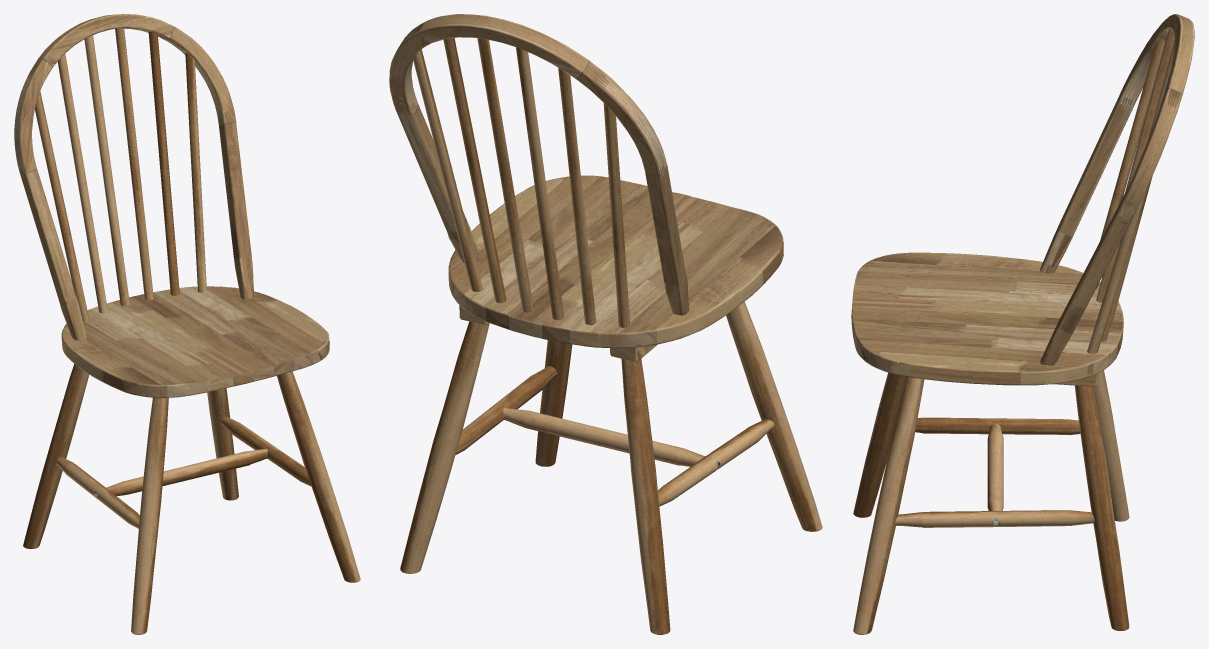
File: skogsta-silla-acacia.glb
The picture shows the model from 3 angles, left to right: view 1: azimuth 30°, elevation 25°; view 2: azimuth 150°, elevation 25°; view 3: azimuth 270°, elevation 25°; orthographic projection. The views are drawn at different scales.
Parts seen in each view (by area): view 1: model; view 2: model; view 3: model.
Part boxes in pixels (x1,y1,x2,y2): model: (14,14,360,634); model: (389,14,822,634); model: (851,14,1194,634).
Size of the model in its own units: 0.4636 by 0.9433 by 0.5387.
1 material, 1 textured.
